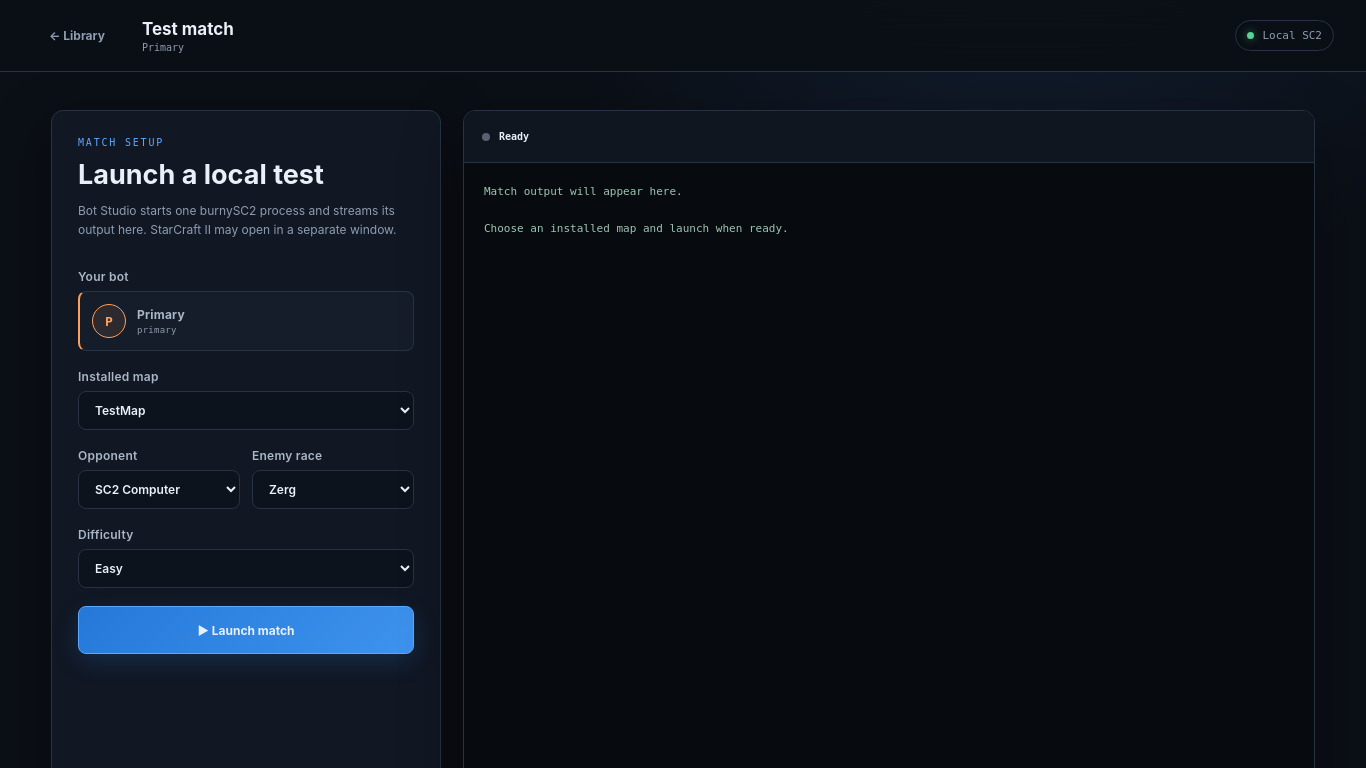
Test: RunConsole › reports a completed match exactly once
Click the button "▶ Launch match": (246, 630) [78,606,414,654]
(page scrolled)
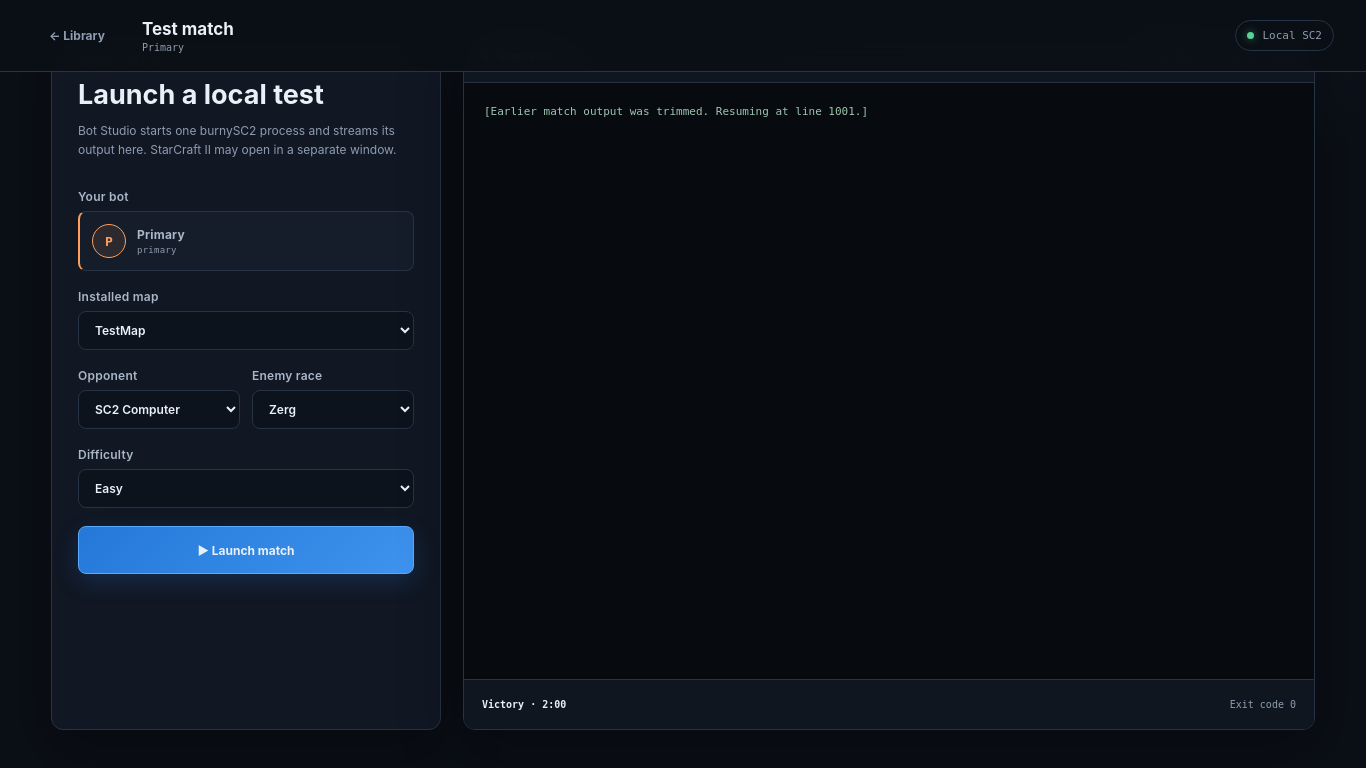
Expected: the text "[Earlier match output was trimmed. Resuming at line 1001.]" is shown, [484,105,868,118]
Expected: the text "Victory · 2:00" is shown, [482,699,566,710]
